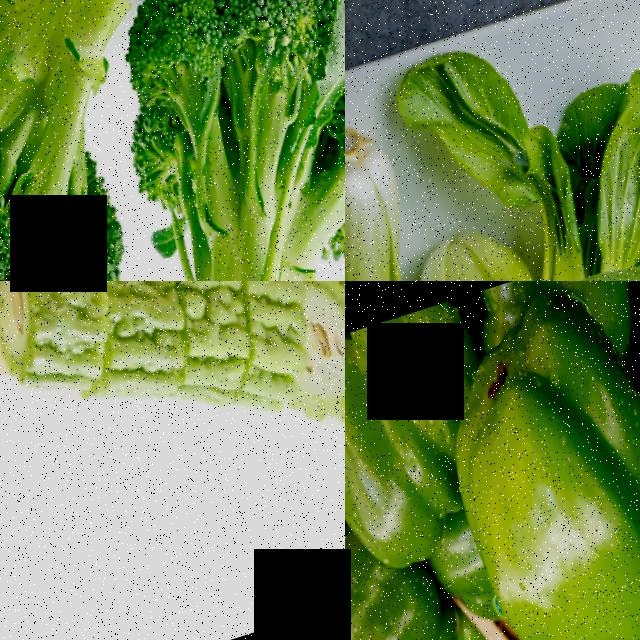bell pepper: (437, 294, 640, 636), (345, 318, 466, 535), (345, 542, 502, 640)
bitter gourd: (79, 281, 335, 498), (0, 281, 141, 409), (281, 281, 345, 455)
bok choy: (345, 111, 490, 281)
broccoli: (67, 0, 345, 281), (0, 0, 205, 281)
